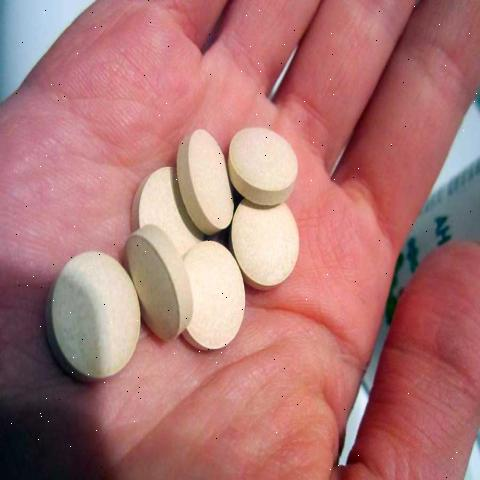Pill: (35, 250, 143, 383), (222, 107, 308, 210), (183, 235, 248, 362), (126, 229, 194, 347), (175, 113, 234, 234)
